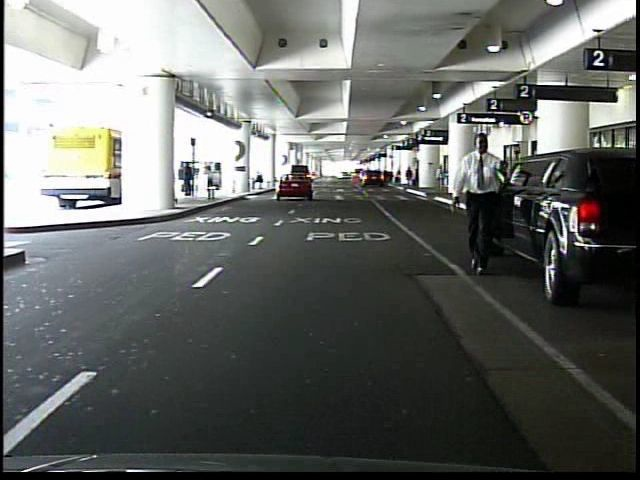person: (458, 126, 514, 282), (182, 160, 197, 198), (434, 165, 447, 192), (254, 170, 266, 192), (406, 167, 415, 189)
